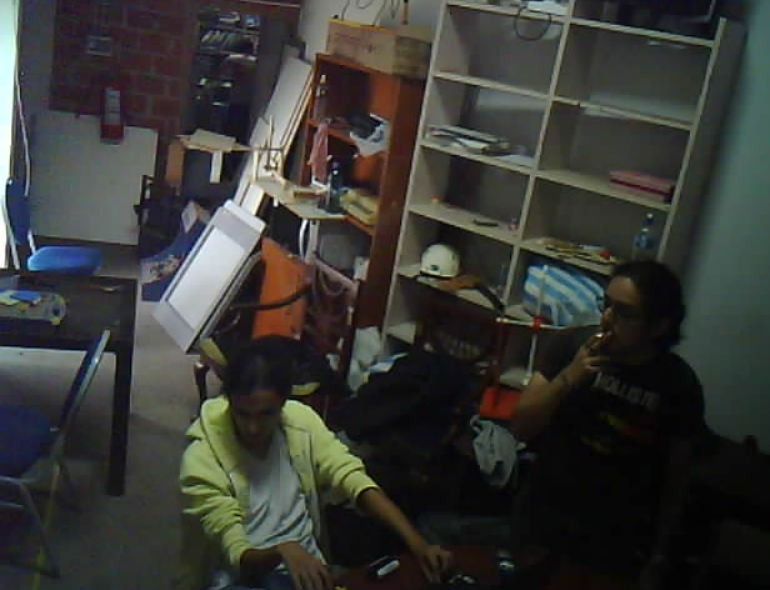person: (491, 211, 739, 580), (121, 342, 457, 590), (204, 27, 279, 130)
